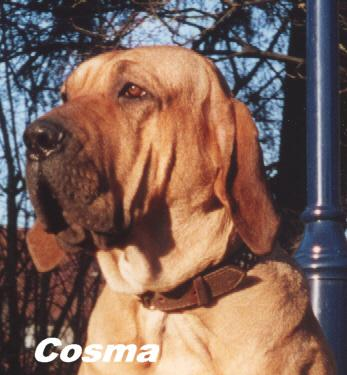fila_brasileiro: (21, 45, 334, 375)
